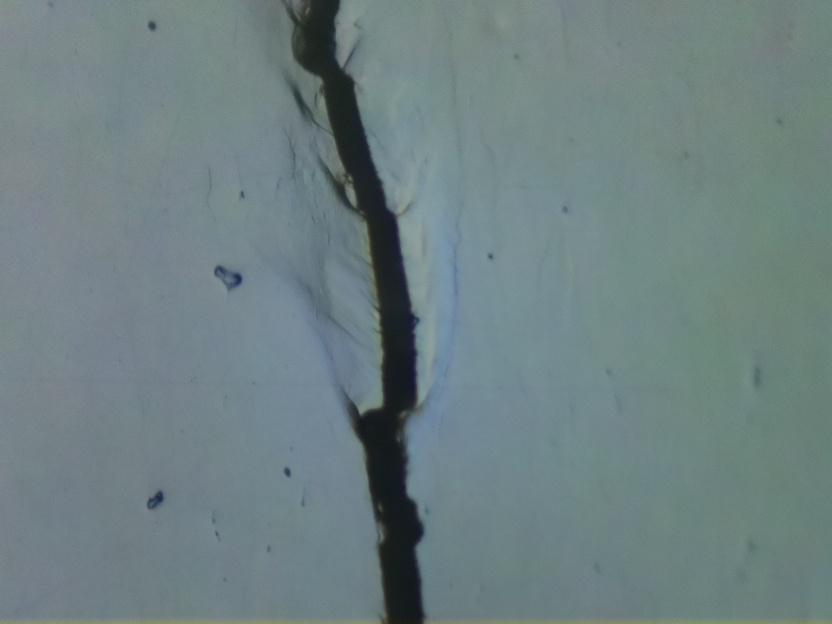crack: (284, 0, 426, 624)
